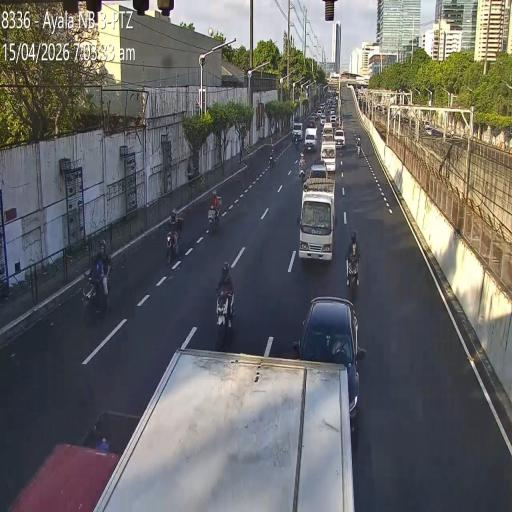Car: (294, 296, 366, 432), (319, 141, 336, 173), (304, 126, 318, 150), (292, 121, 303, 149), (292, 122, 304, 145), (322, 122, 334, 140), (334, 129, 345, 147)
Motor: (82, 254, 112, 324), (215, 286, 234, 346), (166, 216, 182, 264), (346, 245, 360, 295), (208, 189, 222, 226), (298, 152, 306, 178), (267, 147, 275, 169), (356, 138, 362, 156), (295, 132, 300, 150)
Not Accident: (291, 114, 317, 188), (320, 121, 341, 174), (344, 230, 360, 291), (206, 182, 222, 234)
